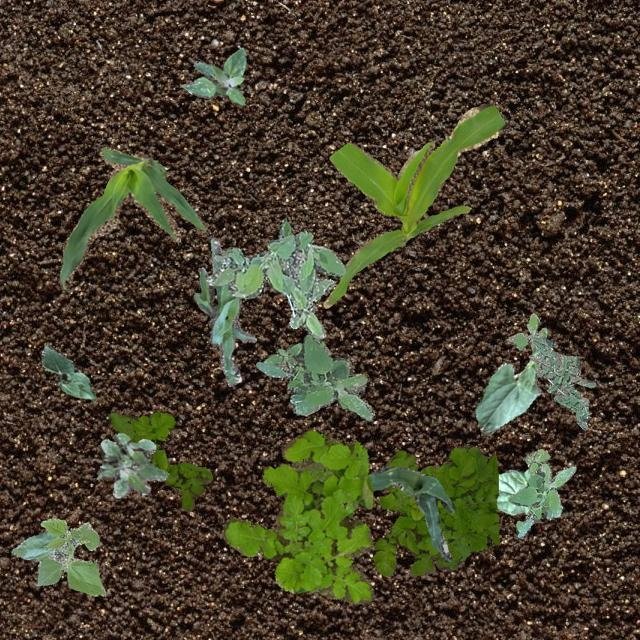crop: (322, 102, 503, 306), (58, 146, 205, 288), (192, 237, 255, 386), (368, 466, 453, 560), (10, 518, 104, 596), (474, 344, 540, 434), (40, 344, 94, 399), (494, 468, 528, 514)
weed: (222, 428, 372, 604), (206, 216, 344, 338), (371, 444, 498, 576), (108, 410, 212, 510), (254, 334, 374, 419), (528, 334, 594, 428), (506, 448, 574, 538), (95, 432, 168, 496), (180, 46, 244, 104), (506, 312, 546, 348)
